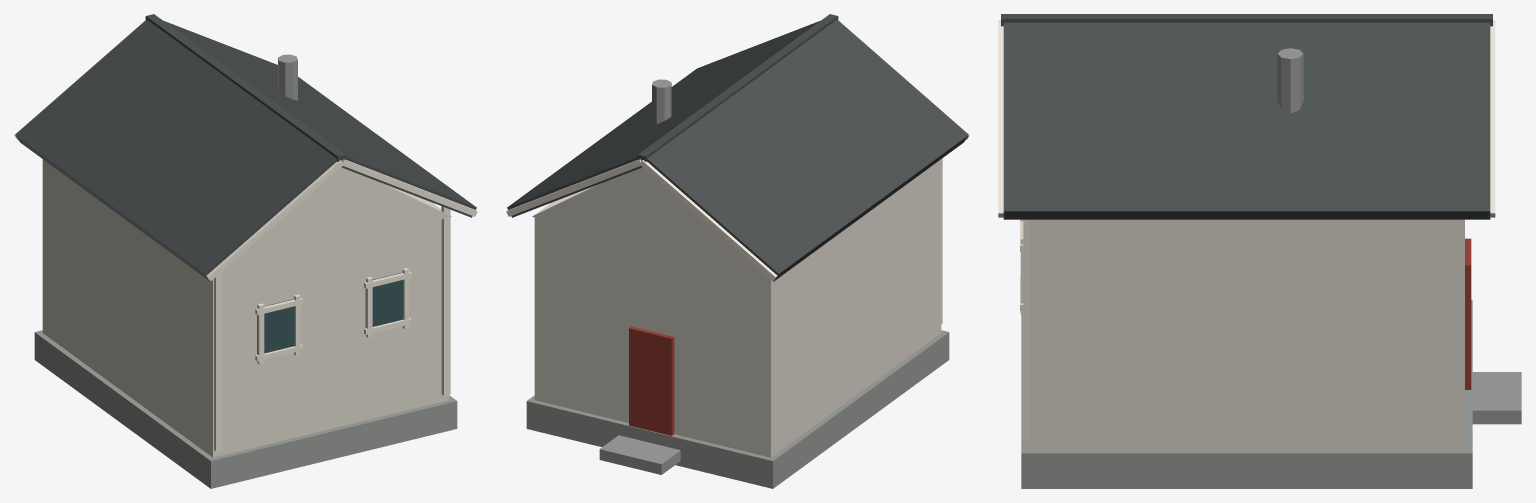
The model's file is norway-house-white-red_lod0.glb.
The picture shows the model from 3 angles, left to right: view 1: azimuth 30°, elevation 25°; view 2: azimuth 150°, elevation 25°; view 3: azimuth 270°, elevation 25°; orthographic projection. The views are drawn at different scales.
Visible parts, largest first — view 1: RF_House_Walls, RF_House_RoofA, RF_House_Foundation, RF_House_Gables, RF_House_RoofB, RF_House_RidgeCap, RF_House_Corner.001, RF_House_Corner, RF_House_VergeLeftFront, RF_House_WindowRecess.001, RF_House_WindowRecess, RF_House_VergeRightFront (+1 smaller); view 2: RF_House_Walls, RF_House_RoofA, RF_House_Foundation, RF_House_Gables, RF_House_RoofB, RF_House_Door, RF_House_RidgeCap, RF_House_Threshold, RF_House_VergeLeftRear, RF_House_VergeRightRear, RF_House_Chimney; view 3: RF_House_Walls, RF_House_RoofB, RF_House_Foundation, RF_House_RidgeCap, RF_House_Threshold, RF_House_Chimney, RF_House_Corner.001, RF_House_VergeRightFront, RF_House_VergeRightRear, RF_House_Door.
Part boxes in pixels (bbox=[...]): RF_House_Walls: bbox=[42, 159, 449, 457]; RF_House_RoofA: bbox=[15, 19, 336, 281]; RF_House_Foundation: bbox=[34, 330, 457, 488]; RF_House_Gables: bbox=[221, 167, 451, 272]; RF_House_RoofB: bbox=[163, 20, 476, 217]; RF_House_RidgeCap: bbox=[145, 14, 346, 161]; RF_House_Corner.001: bbox=[441, 206, 450, 395]; RF_House_Corner: bbox=[214, 272, 222, 451]; RF_House_VergeLeftFront: bbox=[206, 160, 343, 280]; RF_House_WindowRecess.001: bbox=[365, 272, 403, 327]; RF_House_WindowRecess: bbox=[257, 299, 294, 354]; RF_House_VergeRightFront: bbox=[342, 159, 477, 216]; RF_House_Walls: bbox=[534, 159, 941, 457]; RF_House_RoofA: bbox=[647, 19, 968, 281]; RF_House_Foundation: bbox=[526, 330, 949, 488]; RF_House_Gables: bbox=[532, 167, 762, 272]; RF_House_RoofB: bbox=[507, 20, 820, 217]; RF_House_Door: bbox=[629, 326, 674, 435]; RF_House_RidgeCap: bbox=[637, 14, 838, 161]; RF_House_Threshold: bbox=[599, 435, 680, 474]; RF_House_VergeLeftRear: bbox=[639, 160, 777, 280]; RF_House_VergeRightRear: bbox=[506, 159, 641, 216]; RF_House_Chimney: bbox=[652, 79, 671, 125]; RF_House_Walls: bbox=[1029, 219, 1464, 450]; RF_House_RoofB: bbox=[1003, 22, 1490, 219]; RF_House_Foundation: bbox=[1021, 299, 1472, 488]; RF_House_RidgeCap: bbox=[1001, 14, 1492, 26]; RF_House_Threshold: bbox=[1472, 372, 1521, 424]; RF_House_Chimney: bbox=[1277, 48, 1303, 113]; RF_House_Corner.001: bbox=[1023, 219, 1028, 439]; RF_House_VergeRightFront: bbox=[998, 22, 1005, 217]; RF_House_VergeRightRear: bbox=[1488, 22, 1495, 217]; RF_House_Door: bbox=[1465, 238, 1471, 389].
Bounding box in the file's own units: 9.22 × 10.01 × 12.
